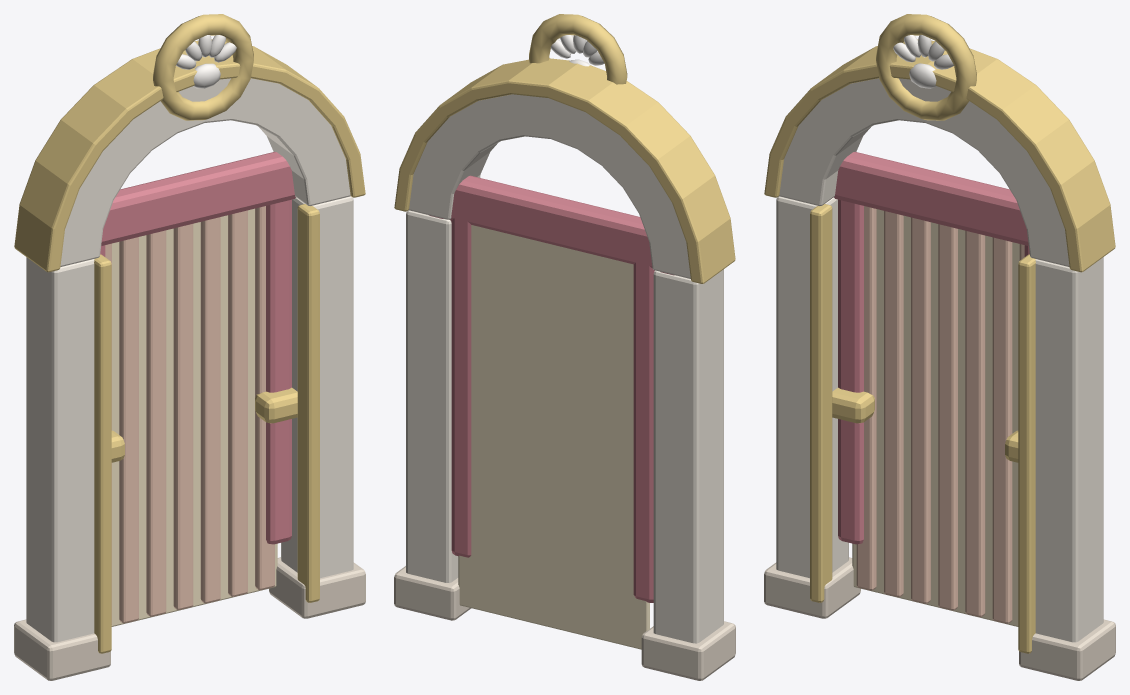
Rendered from opera_portal_open.glb.
3 views of the same model, side by side, from view 1: azimuth 30°, elevation 25°; view 2: azimuth 150°, elevation 25°; view 3: azimuth 330°, elevation 25° (orthographic). The views are drawn at different scales.
Visible parts, largest first — view 1: opera_portal_open.001; view 2: opera_portal_open.001; view 3: opera_portal_open.001.
Part boxes in pixels (x1,y1,x2,y2): opera_portal_open.001: [14, 14, 365, 680]; opera_portal_open.001: [394, 14, 735, 680]; opera_portal_open.001: [764, 14, 1115, 680].
Size of the model in its own units: 7.51 by 14.09 by 1.6.
